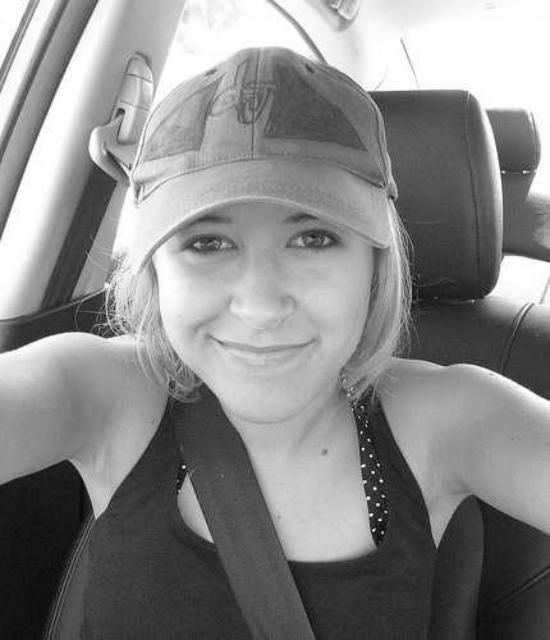SafeDriving: (274, 213, 356, 260), (174, 220, 246, 264)
Seatbelt: (170, 376, 330, 640)
